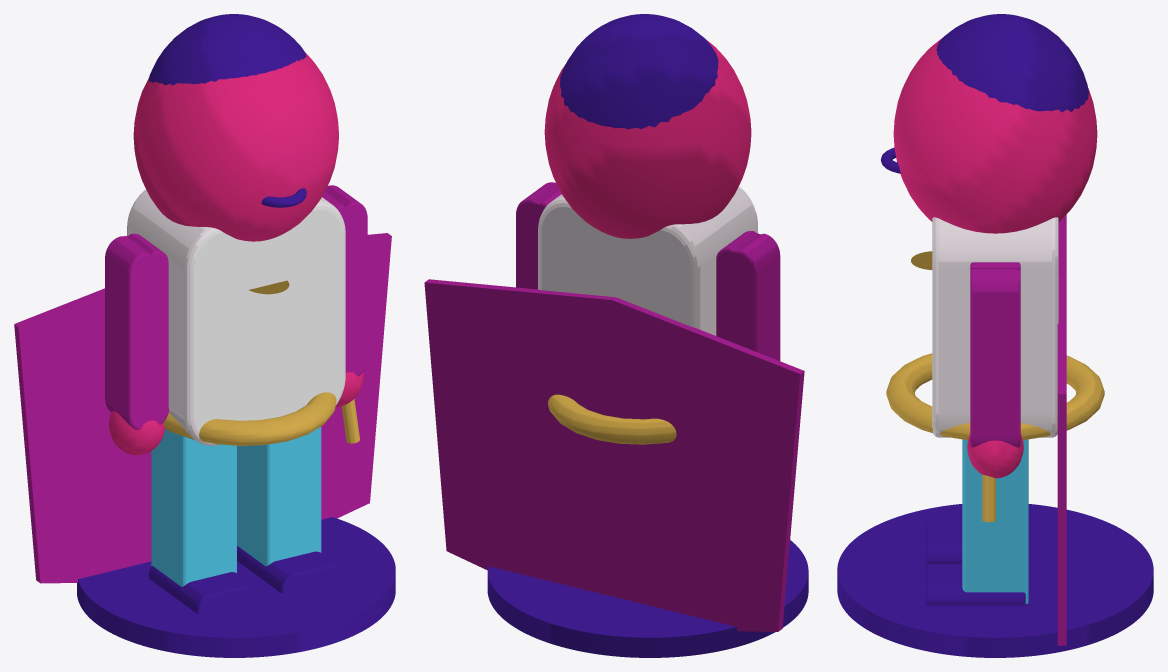
The picture shows the model from 3 angles, left to right: view 1: azimuth 30°, elevation 25°; view 2: azimuth 150°, elevation 25°; view 3: azimuth 270°, elevation 25°; orthographic projection.
Visible parts, largest first — view 1: card_1116; view 2: card_1116; view 3: card_1116.
Part boxes in pixels (x1,y1,x2,y2): card_1116: (14, 14, 395, 657); card_1116: (424, 14, 808, 657); card_1116: (837, 14, 1153, 657).
Bounding box in the file's own units: 0.67 × 1 × 0.4907.
